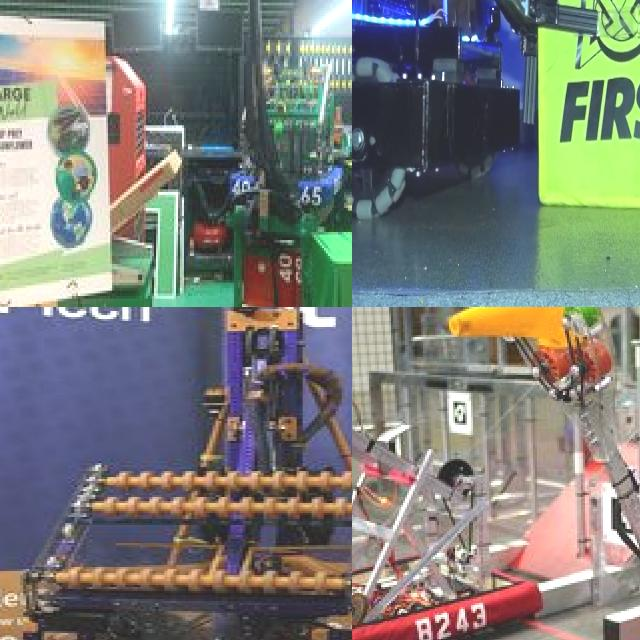FRC-Robots: (0, 307, 352, 640), (425, 307, 640, 640), (352, 393, 527, 640), (352, 0, 532, 239), (225, 35, 352, 209)
